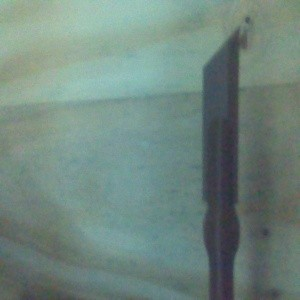cutter: (199, 25, 242, 300)
